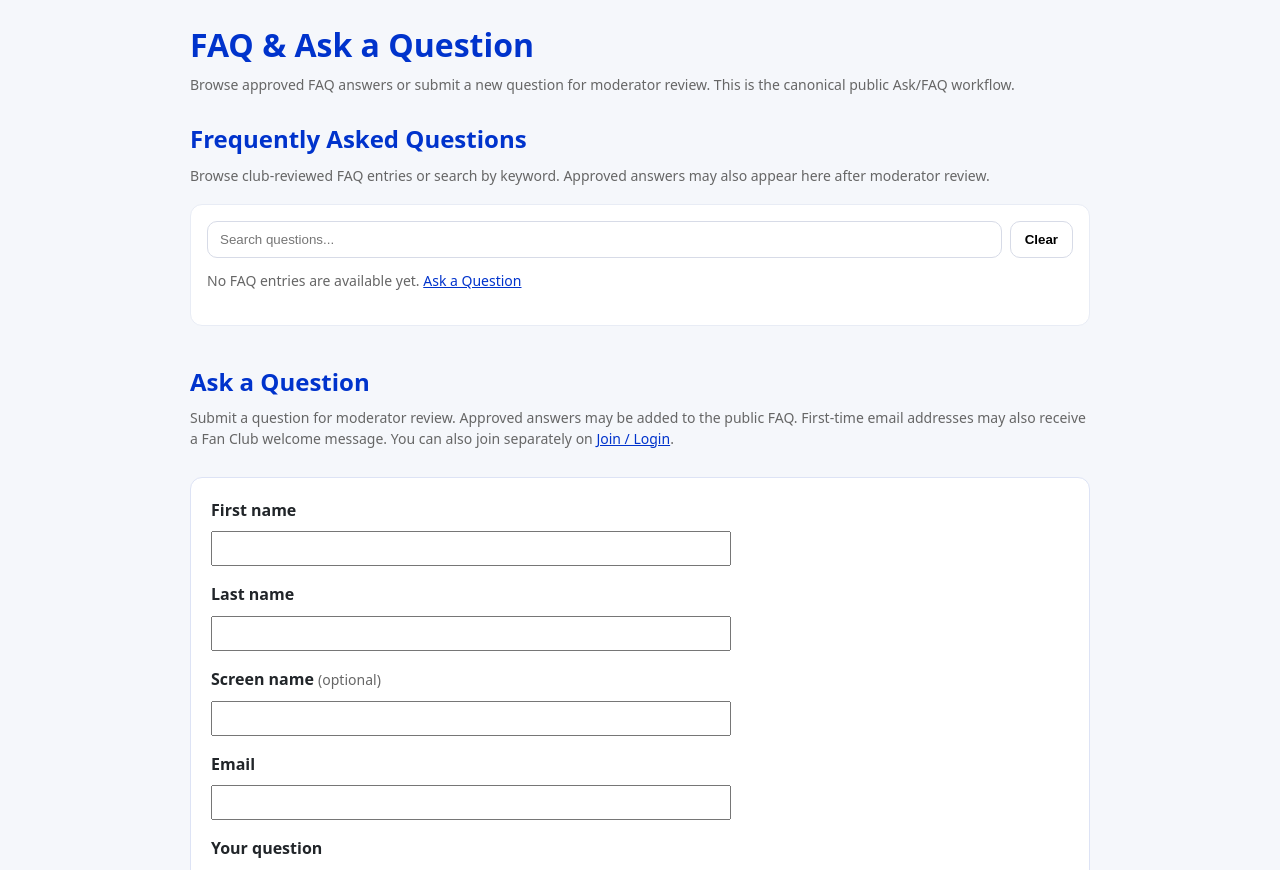
Scenario: Ask page (consolidated FAQ & Ask) › posts full payload to POST /api/ask on submit
The width and height of the screenshot is (1280, 870).
Type "Lou" into the field labelled "First name". click: (471, 549)
box: left=211, top=531, right=731, bottom=566
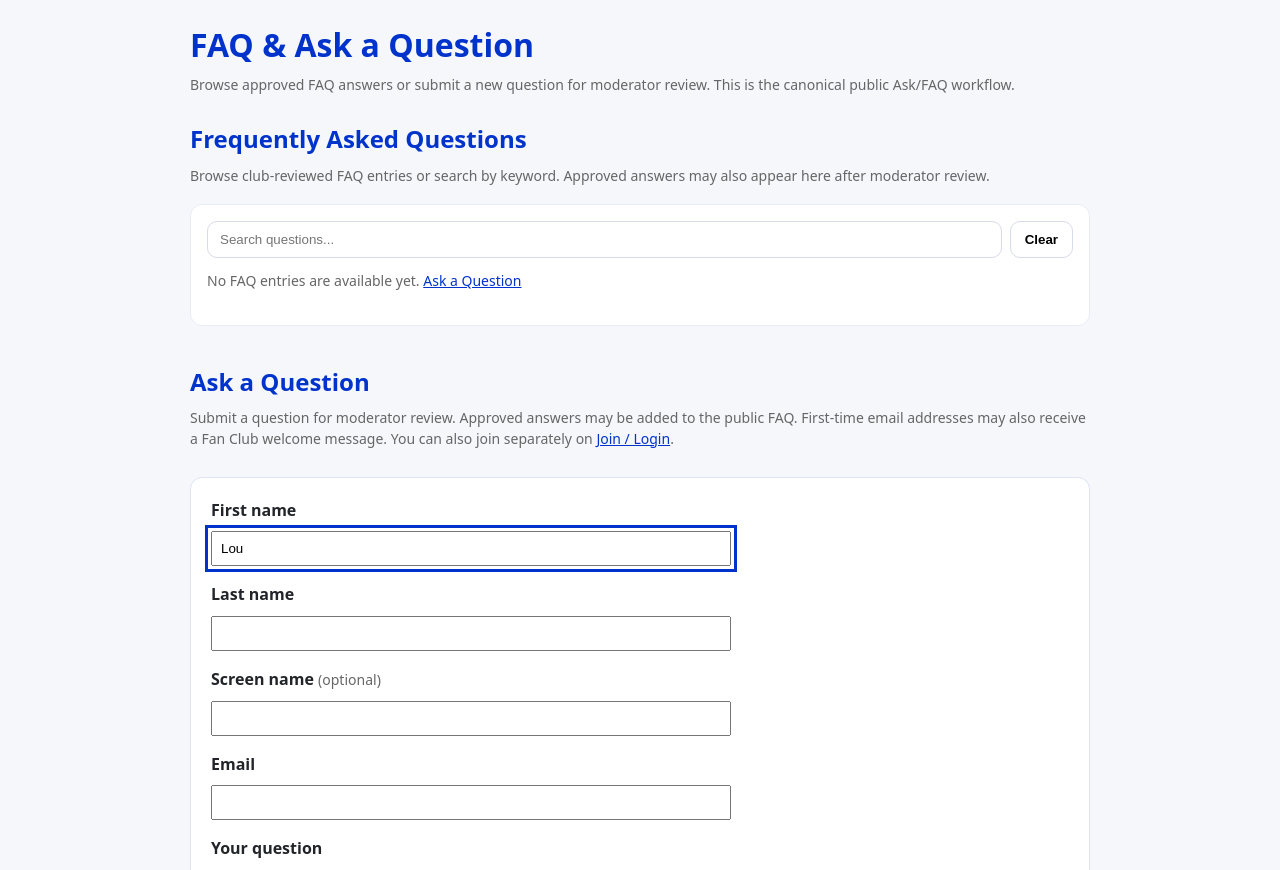
Type "Gehrig" into the field labelled "Last name". click: (471, 634)
box: left=211, top=616, right=731, bottom=651
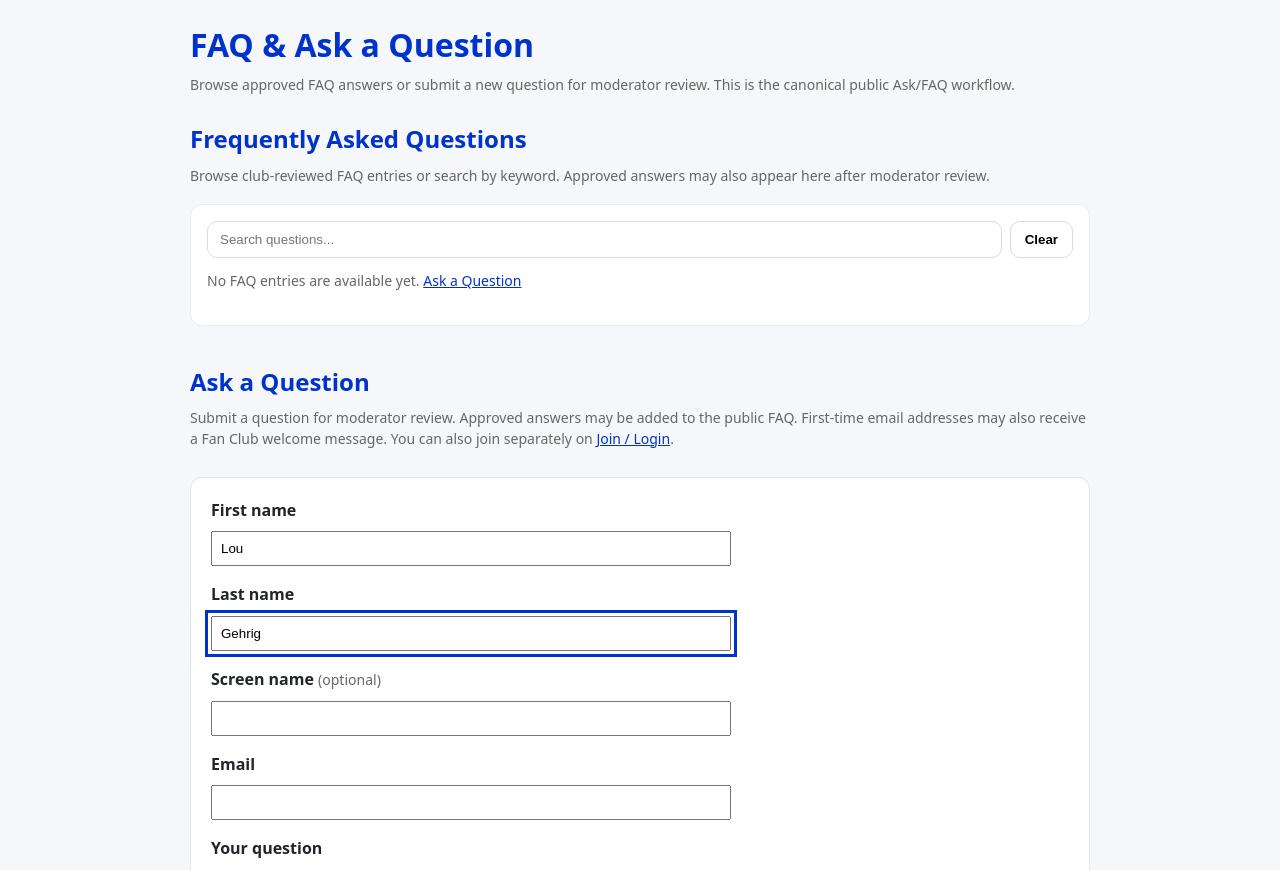
Type "fan@example.com" into the field labelled "Email". click: (471, 803)
box: left=211, top=785, right=731, bottom=820
(page scrolled)
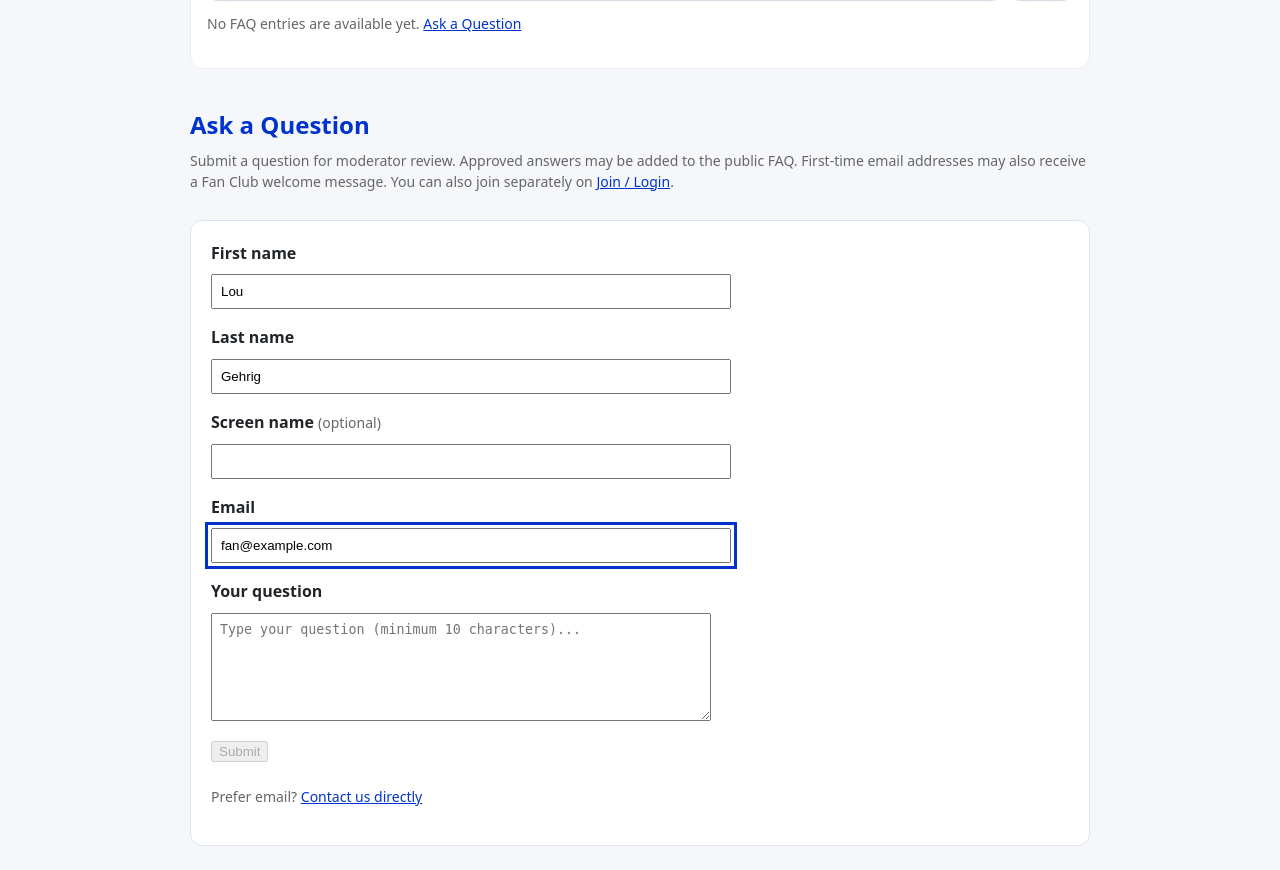
Type "How do I join the fan club online?" into the text box labelled "Your question". click: (461, 667)
box: left=211, top=613, right=711, bottom=721
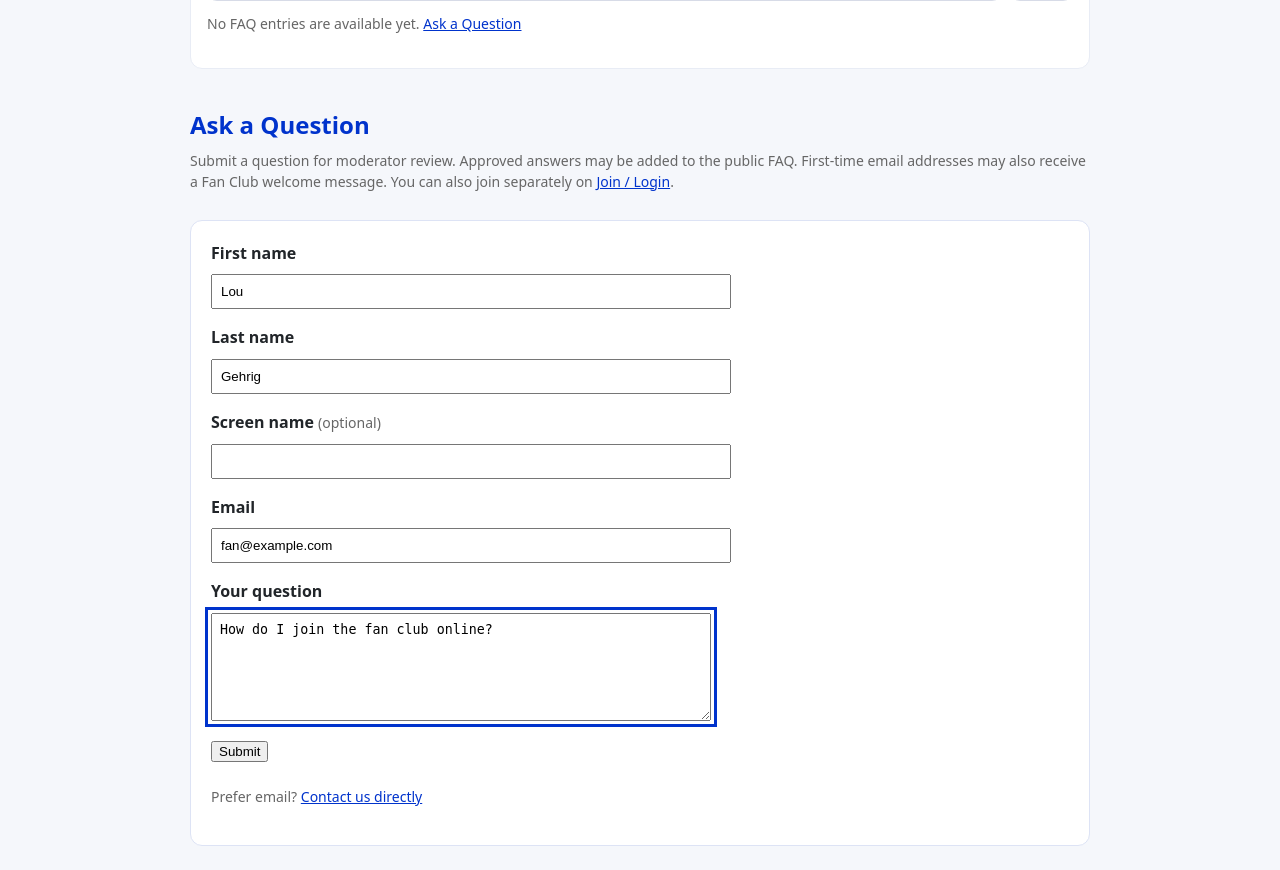
Click the button "Submit". click: (240, 751)
box: left=211, top=741, right=268, bottom=762
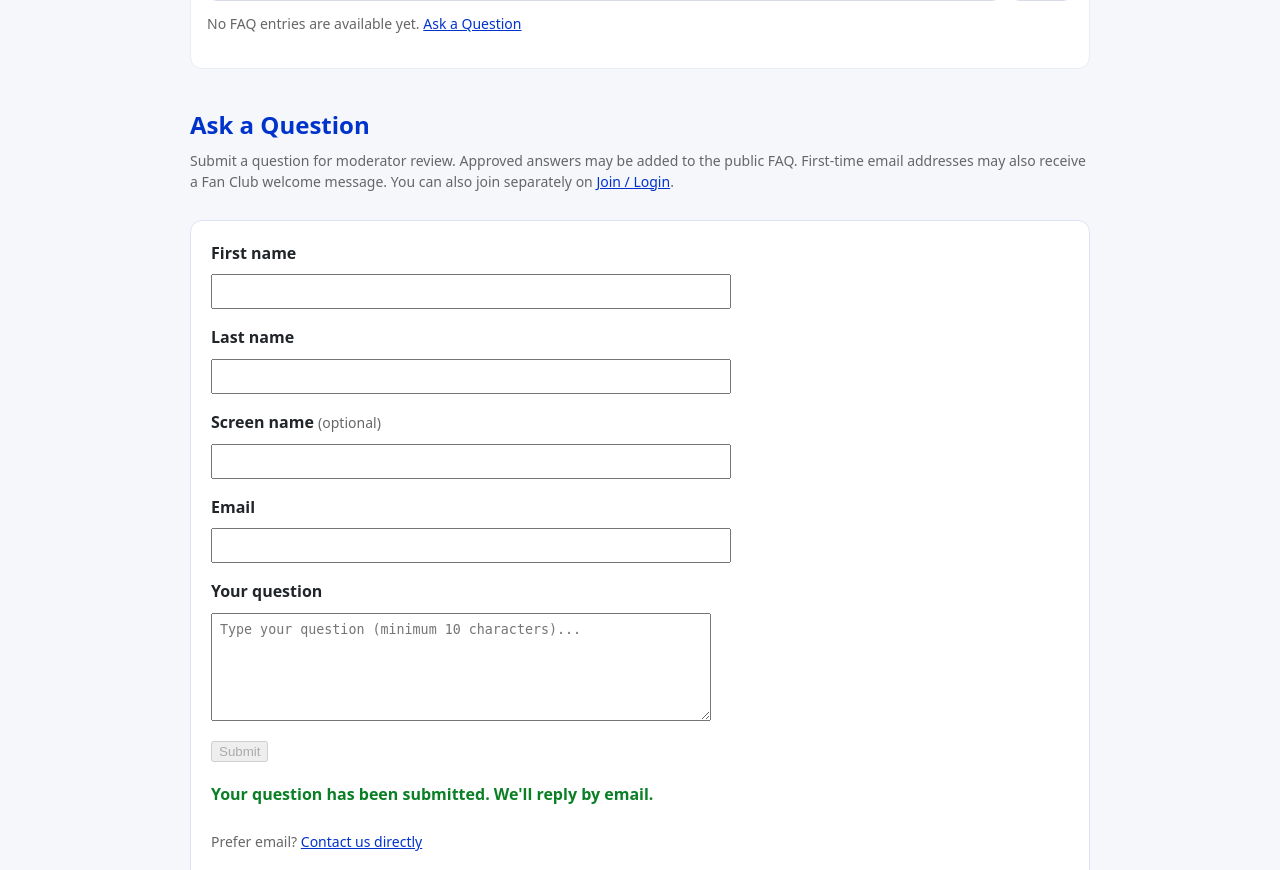
Result: the text "Your question has been submitted. We'll reply by email." is shown at left=211, top=783, right=653, bottom=805
